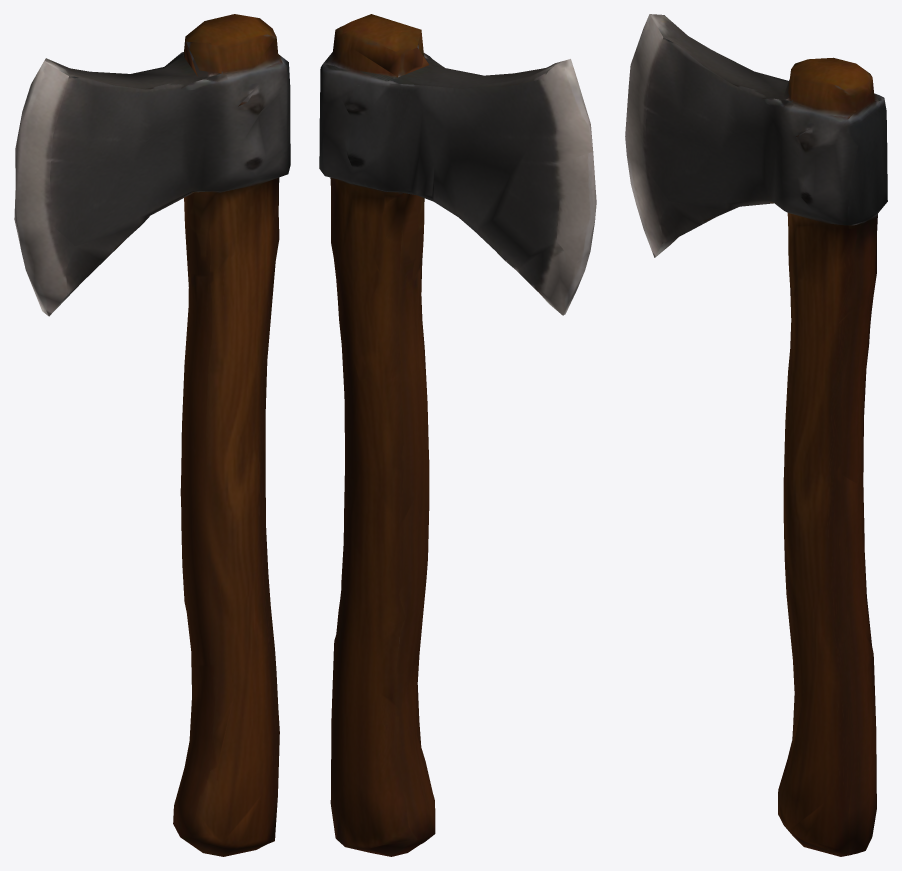
File: hacha.glb
3 renders of one model, left to right at view 1: azimuth 30°, elevation 25°; view 2: azimuth 150°, elevation 25°; view 3: azimuth 330°, elevation 25°, orthographic. The views are drawn at different scales.
Visible parts, largest first — view 1: geometry_0; view 2: geometry_0; view 3: geometry_0.
Boxes of the visible parts, bbox=[...] form: geometry_0: bbox=[14, 14, 290, 856]; geometry_0: bbox=[319, 14, 596, 856]; geometry_0: bbox=[625, 14, 887, 856].
Size of the model in its own units: 0.2165 by 0.65 by 0.0802.
Materials: 1 (1 with a texture image).
